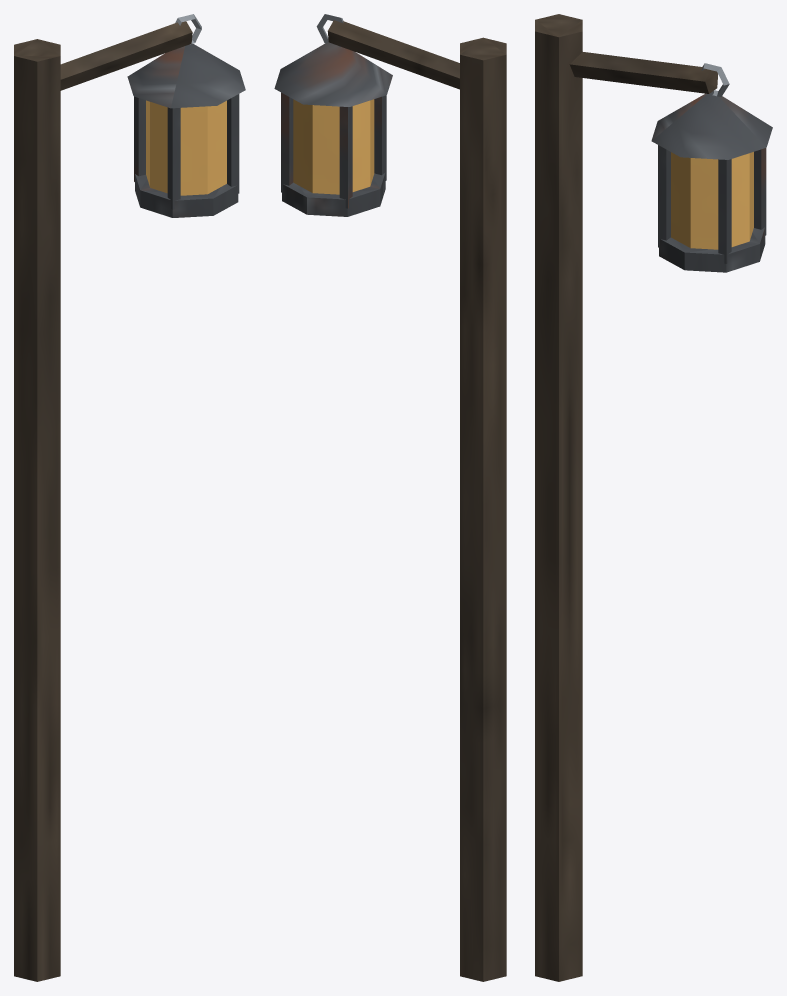
File: SM_Camp_Lantern.fbx
3 views of the same model, side by side, from view 1: azimuth 30°, elevation 25°; view 2: azimuth 150°, elevation 25°; view 3: azimuth 330°, elevation 25° (orthographic). The views are drawn at different scales.
Visible parts, largest first — view 1: SM_Camp_Lantern; view 2: SM_Camp_Lantern; view 3: SM_Camp_Lantern.
Boxes of the visible parts, x1,y1,x2,y2 form: SM_Camp_Lantern: (14, 14, 245, 981); SM_Camp_Lantern: (274, 14, 506, 981); SM_Camp_Lantern: (535, 14, 772, 981).
Bounding box in the file's own units: 1.36 × 5.3 × 0.64.
1 material, 1 textured.
